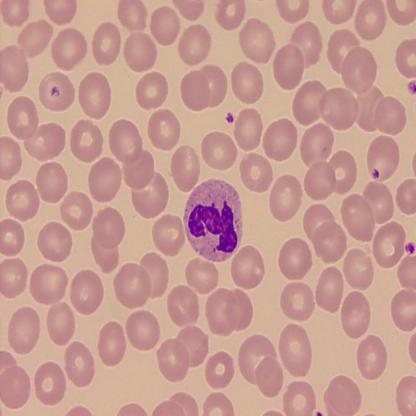Segmented neutrophil: (181, 174, 245, 264)
